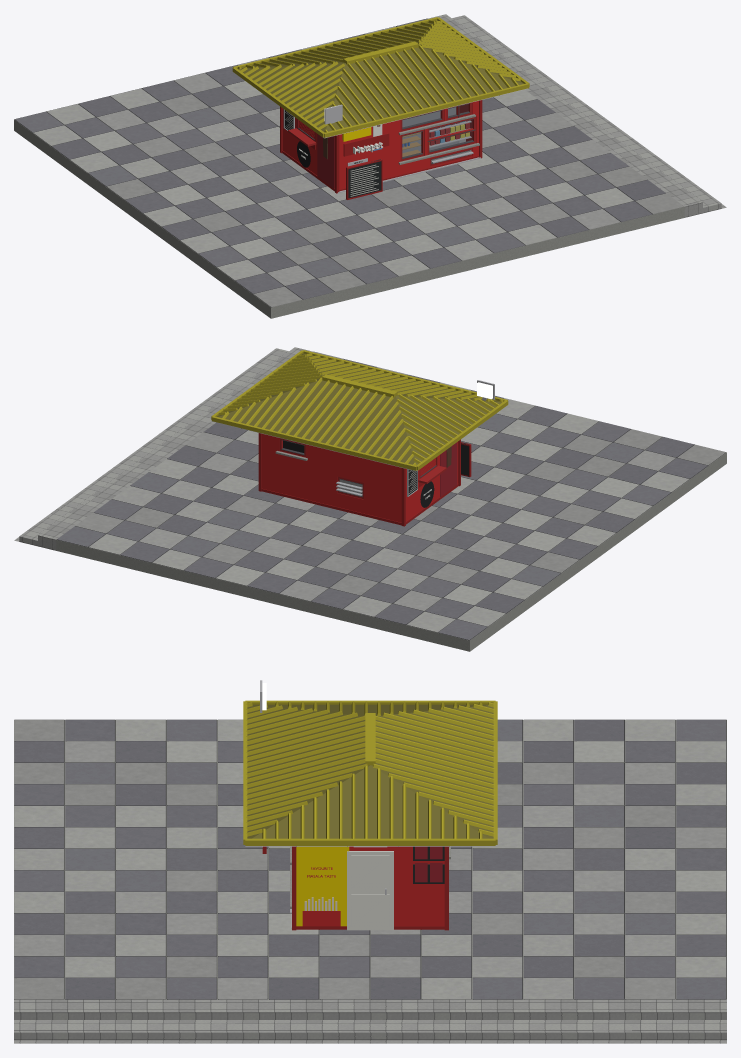
The model's file is Maggi_Point_Building.glb.
3 views of the same model, one above another, from view 1: azimuth 30°, elevation 25°; view 2: azimuth 150°, elevation 25°; view 3: azimuth 270°, elevation 25° (orthographic). The views are drawn at different scales.
Parts seen in each view (by area): view 1: MGP_Terrace, MGP_Roof, MGP_Kiosk; view 2: MGP_Terrace, MGP_Roof, MGP_Kiosk; view 3: MGP_Terrace, MGP_Roof, MGP_Kiosk.
Part boxes in pixels (x1,y1,x2,y2): MGP_Terrace: [14, 14, 726, 318]; MGP_Roof: [232, 17, 529, 138]; MGP_Kiosk: [280, 100, 482, 199]; MGP_Terrace: [14, 347, 726, 651]; MGP_Roof: [211, 350, 508, 471]; MGP_Kiosk: [258, 433, 471, 526]; MGP_Terrace: [14, 719, 726, 1043]; MGP_Roof: [243, 680, 497, 846]; MGP_Kiosk: [262, 846, 450, 930].
Bounding box in the file's own units: 34.4 × 8.3 × 33.6.
Materials: 38 (4 with a texture image).
